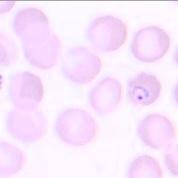Infected: (126, 72, 161, 106)
Uninfected: (21, 24, 62, 68), (6, 103, 47, 142), (61, 46, 101, 84), (86, 15, 127, 52), (56, 108, 94, 146), (130, 26, 170, 62), (8, 71, 43, 111), (13, 7, 50, 41), (138, 114, 174, 148), (88, 77, 121, 113), (129, 155, 163, 178)
